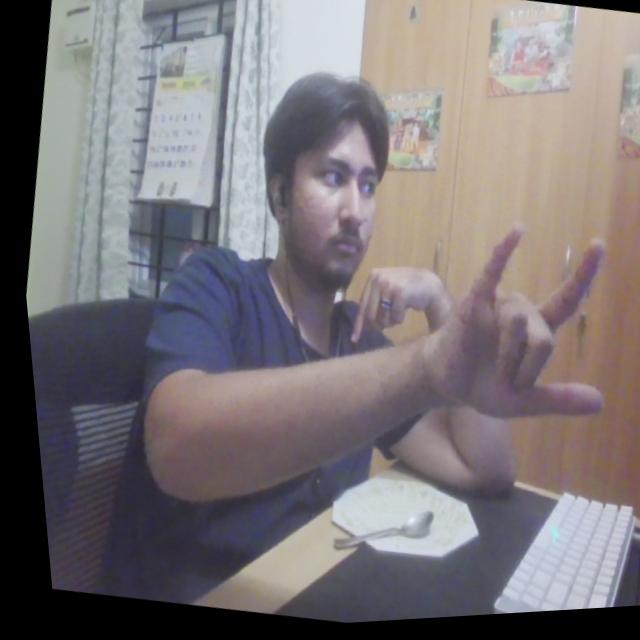iloveyou: (412, 206, 638, 451)
